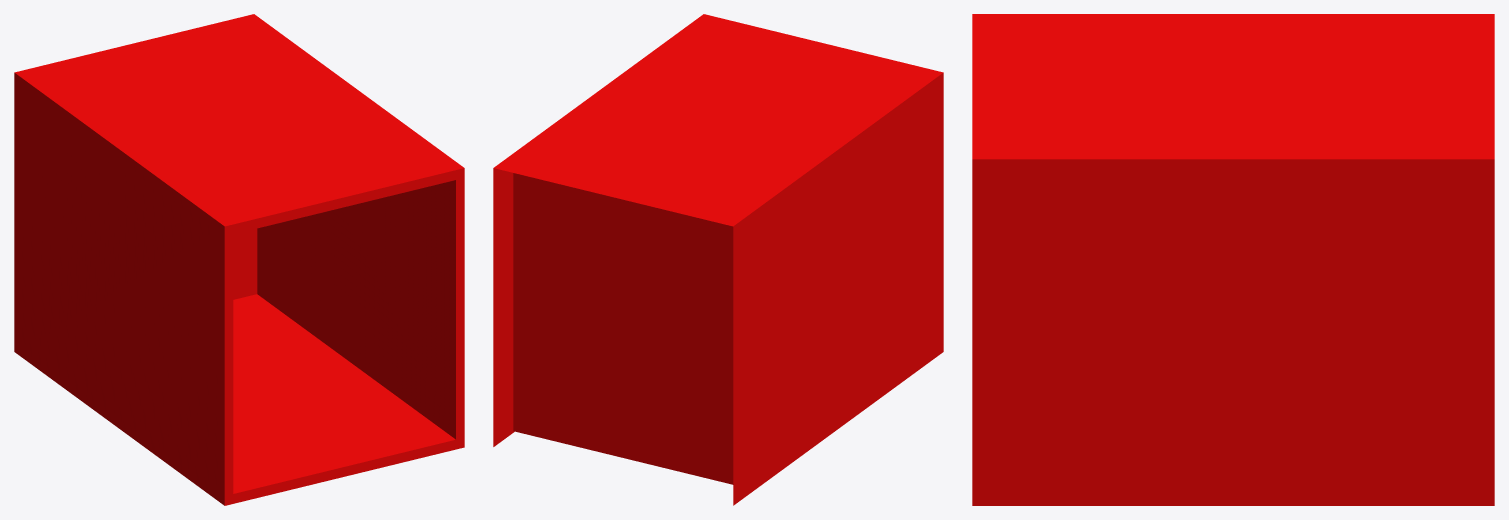
The model's file is WitchShop_Cabinet.fbx.
The picture shows the model from 3 angles, left to right: view 1: azimuth 30°, elevation 25°; view 2: azimuth 150°, elevation 25°; view 3: azimuth 270°, elevation 25°; orthographic projection. The views are drawn at different scales.
Parts seen in each view (by area): view 1: Cabinet; view 2: Cabinet; view 3: Cabinet.
Part boxes in pixels (bbox=[...]): Cabinet: bbox=[14, 14, 464, 505]; Cabinet: bbox=[493, 14, 943, 505]; Cabinet: bbox=[972, 14, 1494, 505].
Bounding box in the file's own units: 68.85 × 76.67 × 105.
